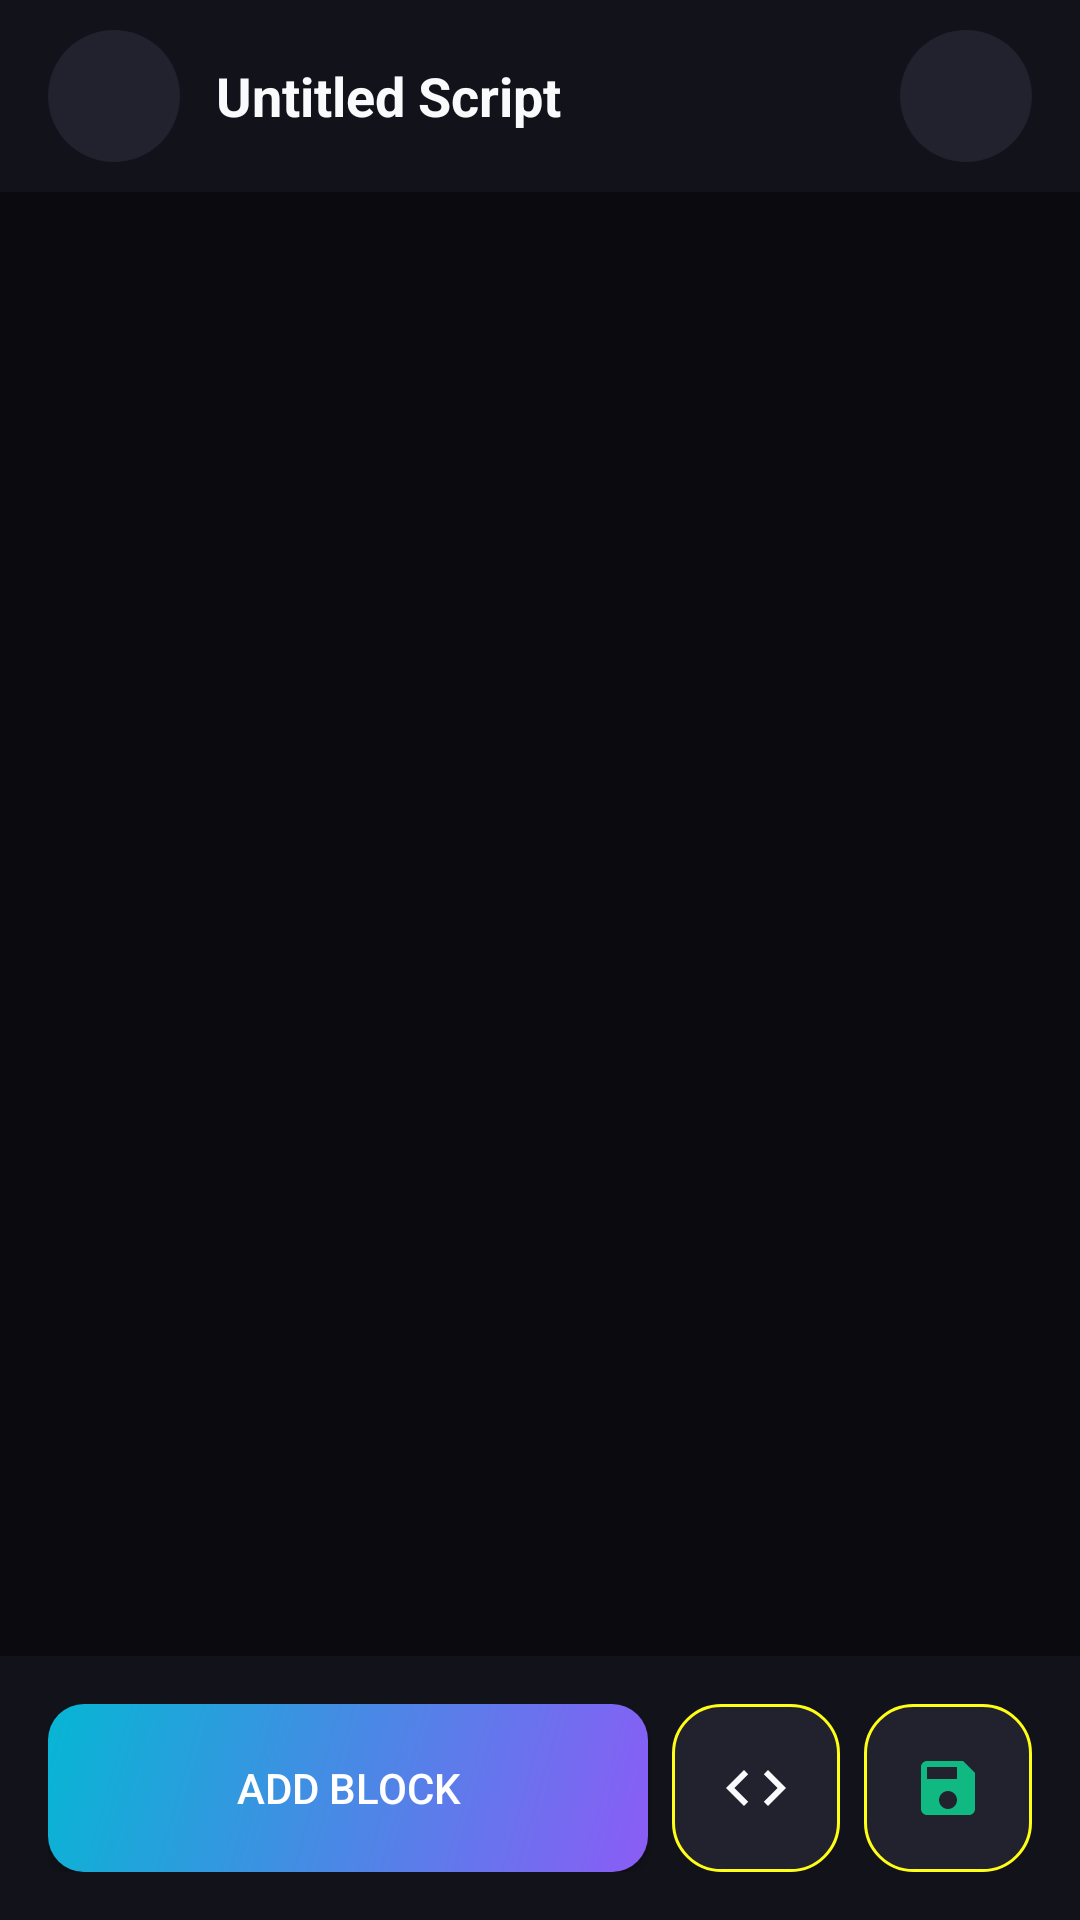

Screen size 1080x1920. Icon name, then its box in pixels as box=[x1, y1, x2, y2]:
code: box=[672, 1704, 840, 1872]
save: box=[864, 1704, 1032, 1872]
